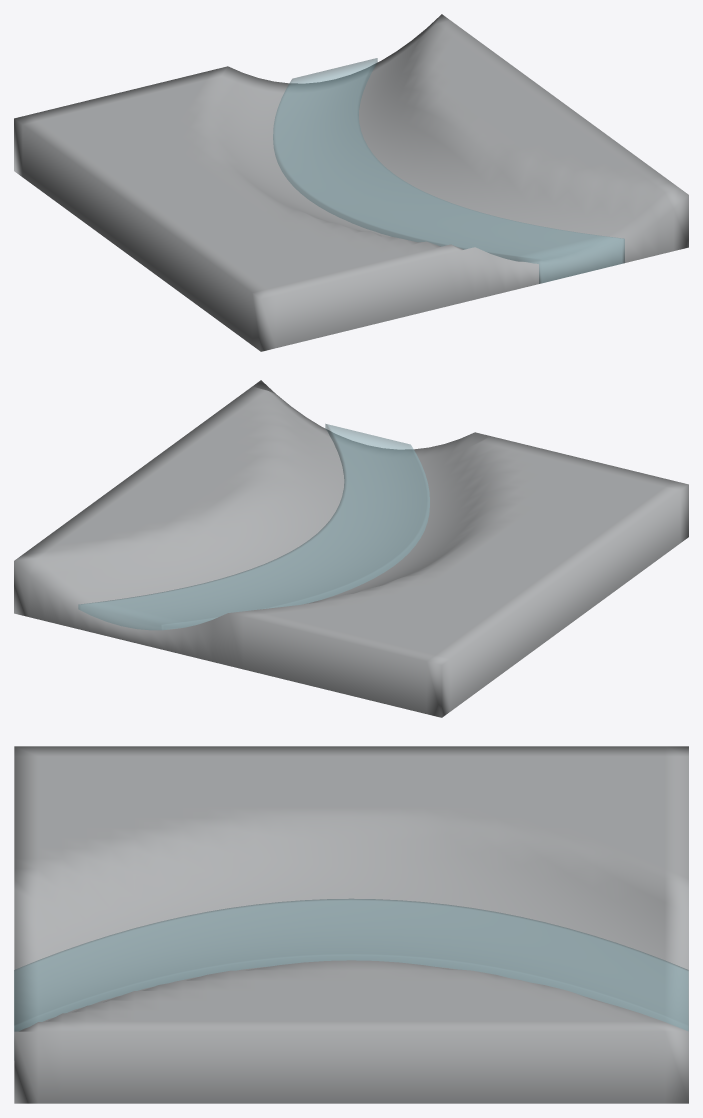
File: alpine-and-arctic-biomes-meltwater-bend-569530fe__21054.glb
3 views of the same model, one above another, from view 1: azimuth 30°, elevation 25°; view 2: azimuth 150°, elevation 25°; view 3: azimuth 270°, elevation 25° (orthographic). The views are drawn at different scales.
Visible parts, largest first — view 1: meltwater-bend; view 2: meltwater-bend; view 3: meltwater-bend.
Part boxes in pixels (left/top/right/bottom): meltwater-bend: left=14, top=14, right=688, bottom=351; meltwater-bend: left=14, top=380, right=688, bottom=717; meltwater-bend: left=14, top=746, right=688, bottom=1103.
Bounding box in the file's own units: 4 × 0.4698 × 4.
